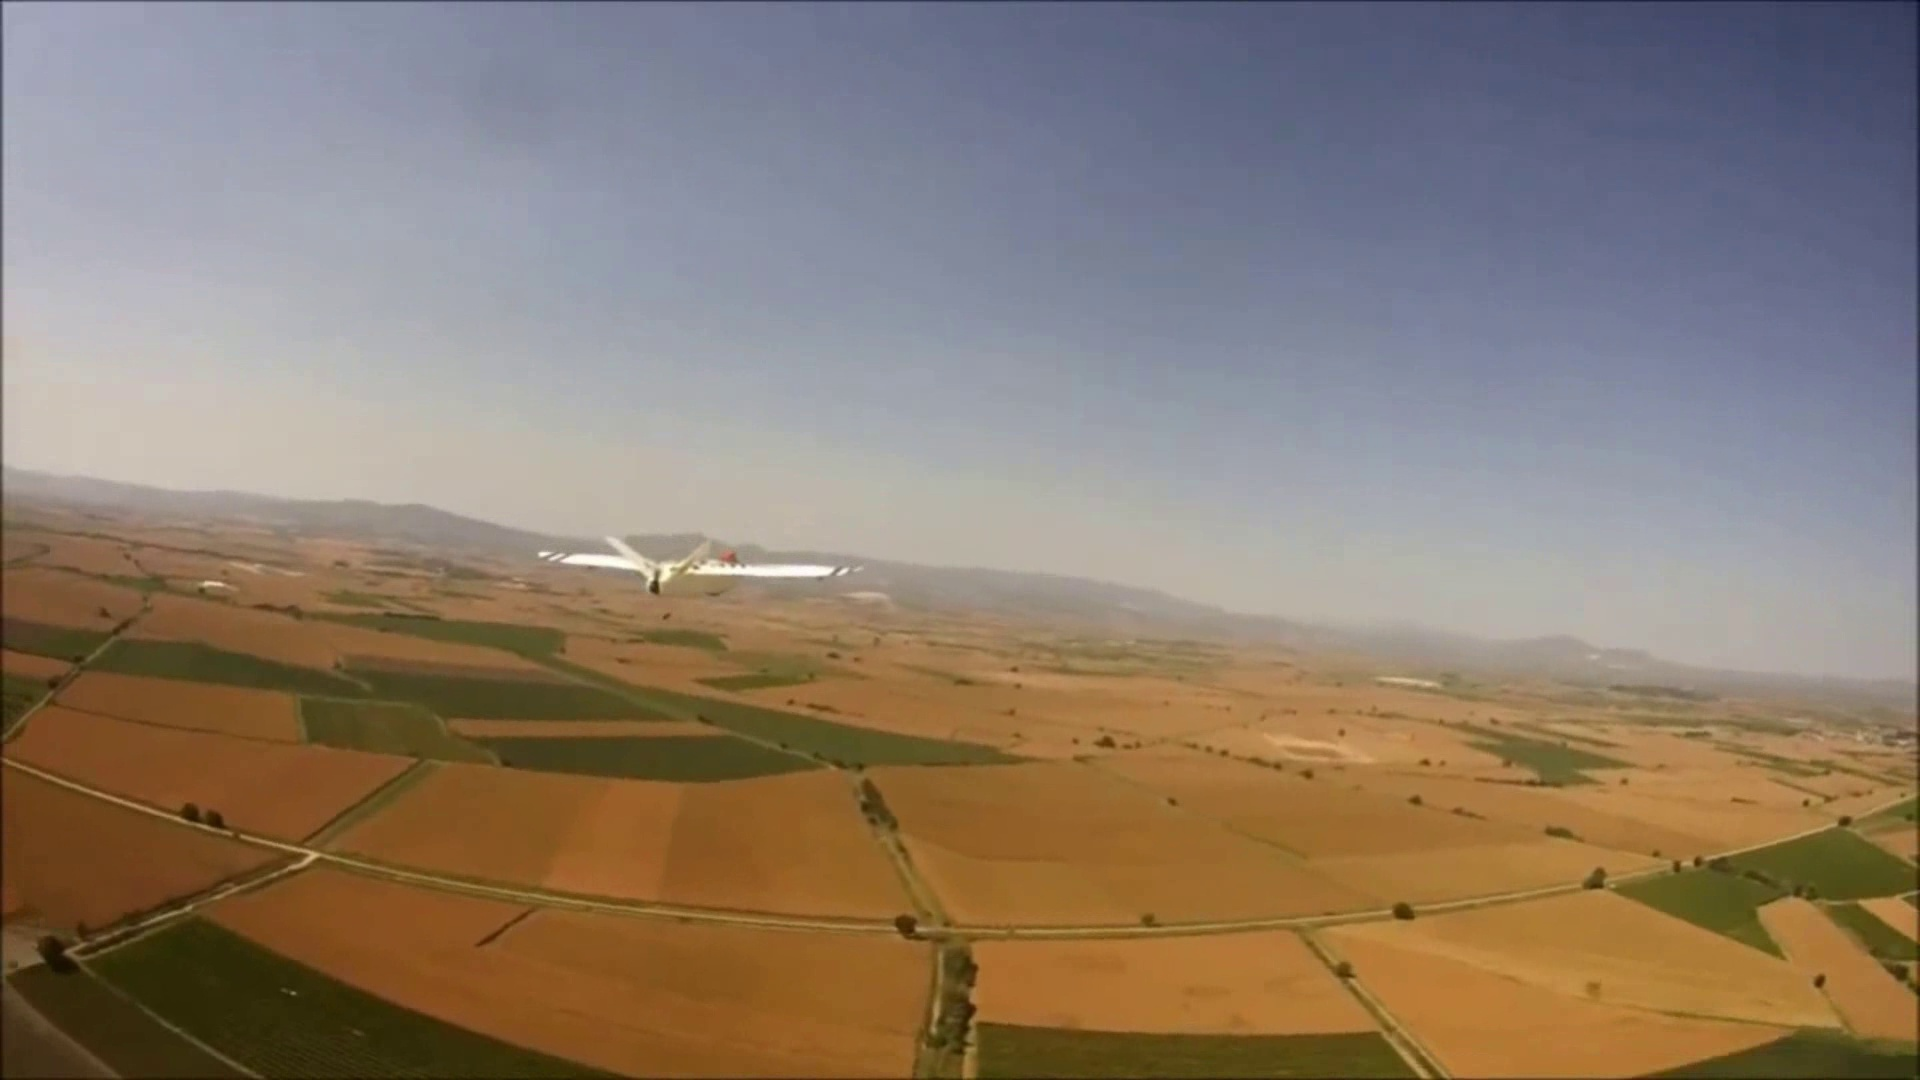airplane: (8, 516, 1888, 1069), (535, 529, 855, 592)
